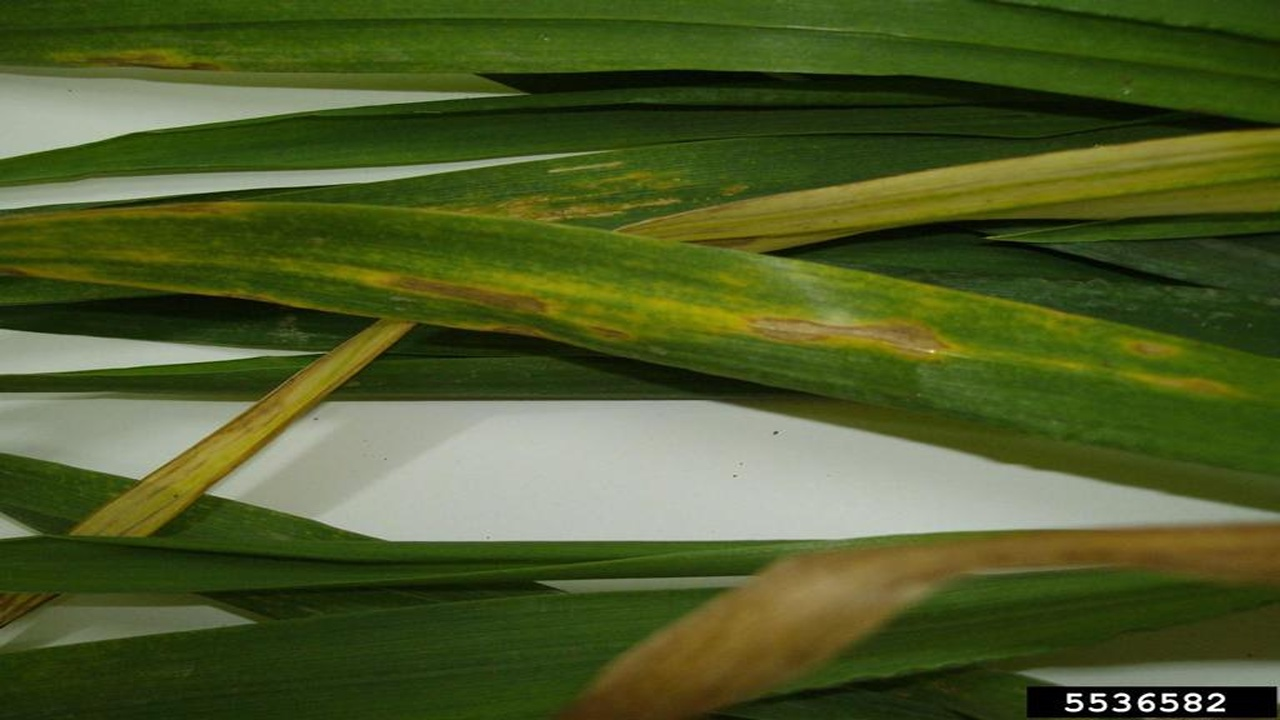tan_spot: (3, 202, 1279, 454), (259, 126, 898, 236)
